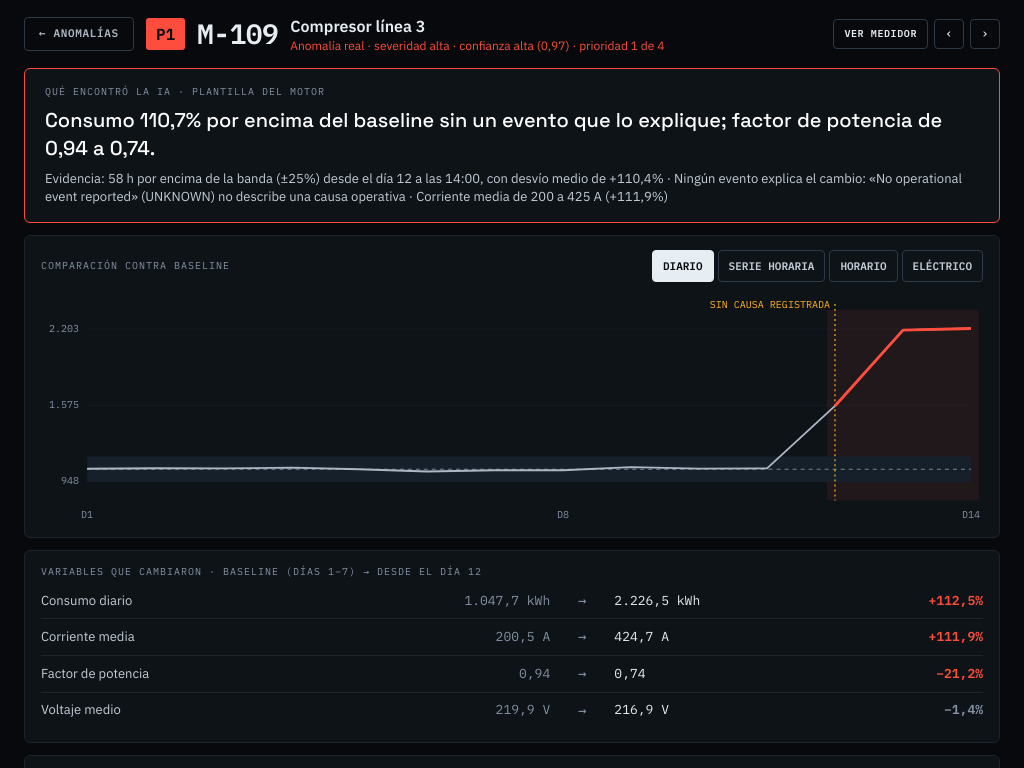
Scenario: InvestigationPage › draws the hourly series, the electrical panels and the diagnostics from the readings
The image size is (1024, 768).
Click the button "SERIE HORARIA". click: {"x": 772, "y": 266}
box: [718, 250, 825, 282]
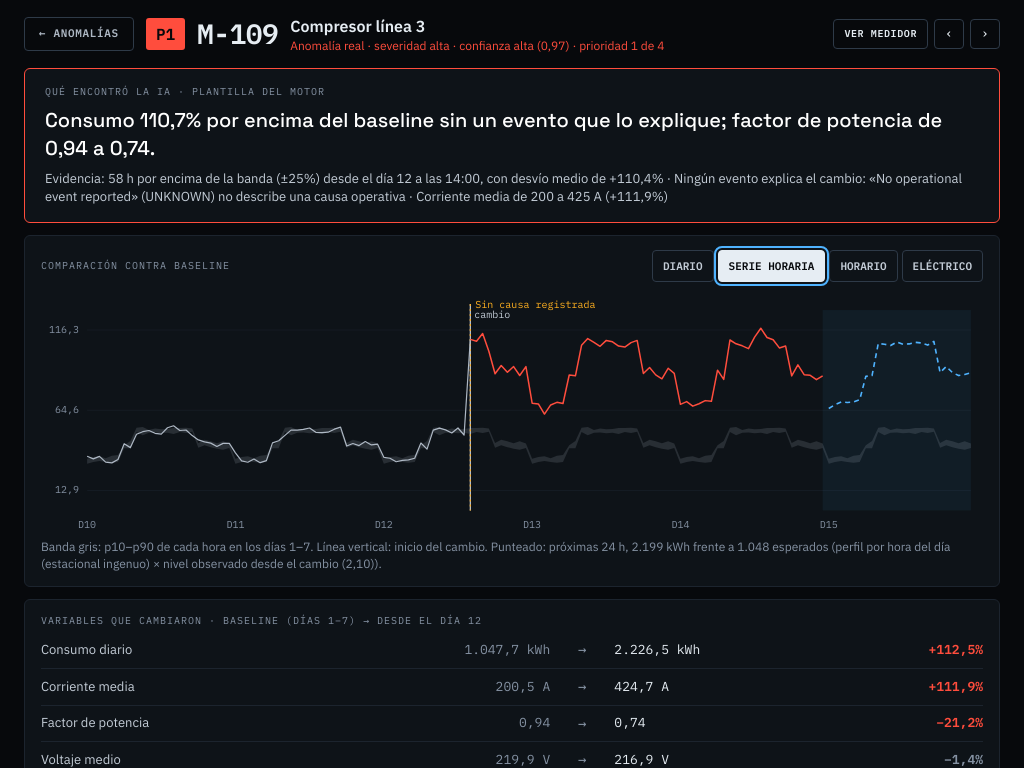
Now the picture named "Consumo horario frente a la banda p10–p90 del baseline" is shown, box [41, 292, 983, 533]
Now the text "próximas 24 h" is shown, box [41, 539, 950, 571]
Click the button "ELÉCTRICO". click: {"x": 942, "y": 266}
box: [902, 250, 983, 282]
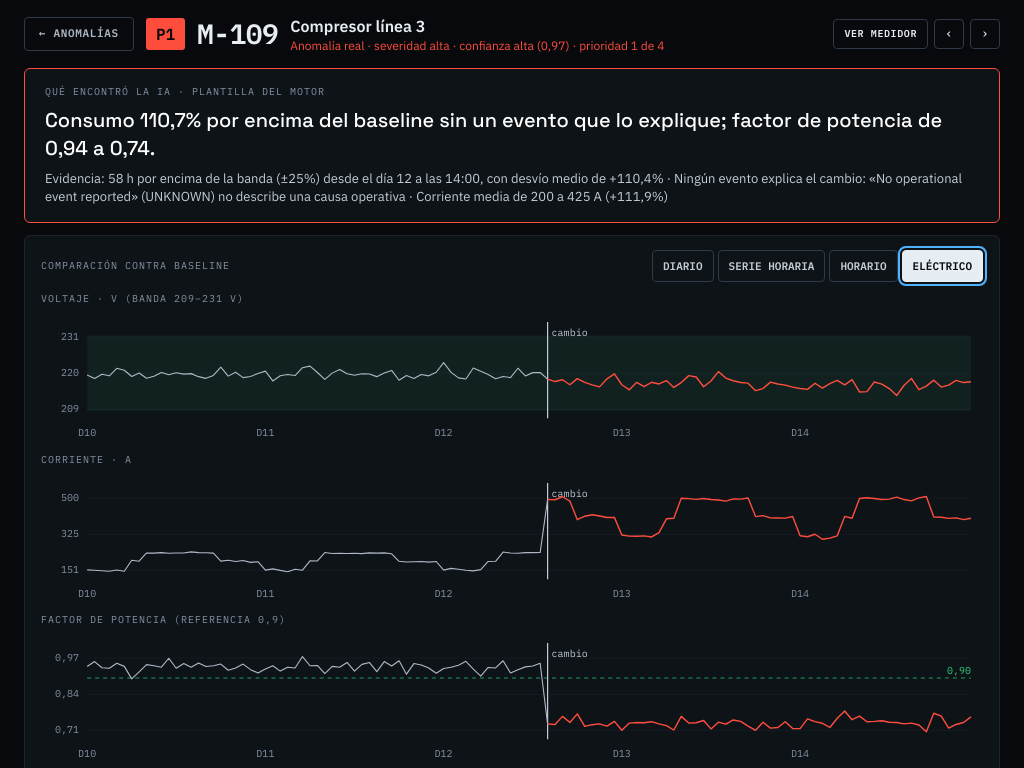
Now the picture named "VOLTAJE · V (BANDA 209–231 V)" is shown, box [41, 310, 983, 441]
Now the picture named "FACTOR DE POTENCIA (REFERENCIA 0,9)" is shown, box [41, 631, 983, 761]
